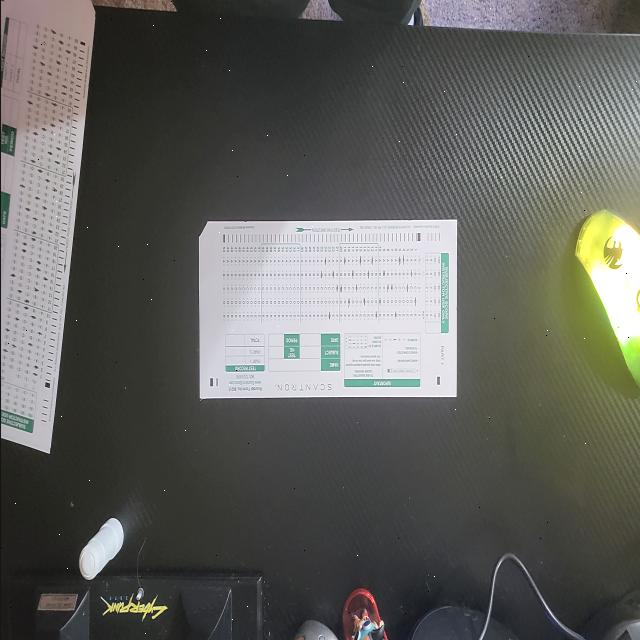scantron: (198, 220, 456, 400)
